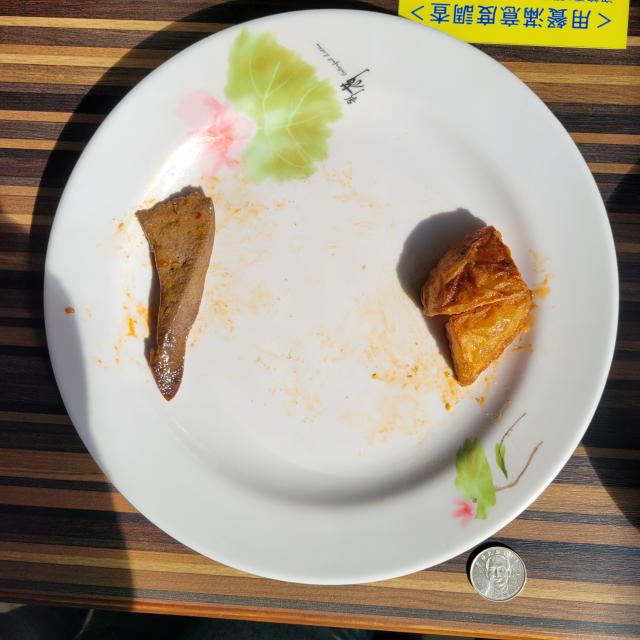coin: (470, 546, 526, 601)
fried potato: (421, 226, 532, 386)
pig liver: (136, 192, 215, 400)
